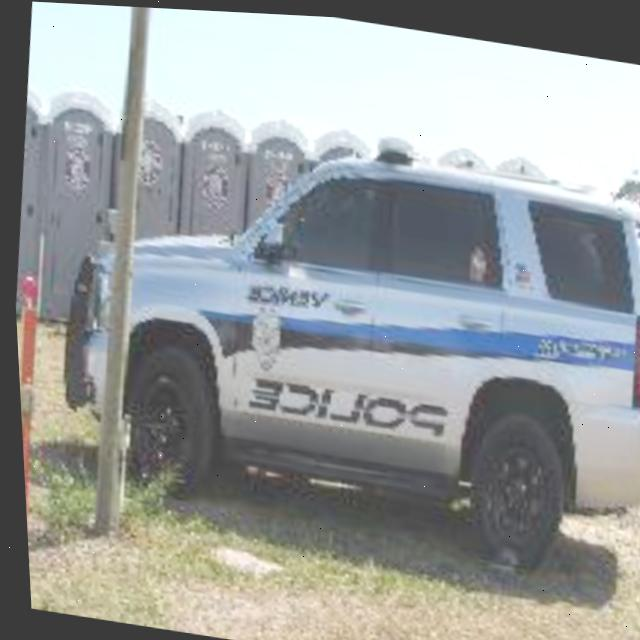emergency: (34, 95, 640, 620)
